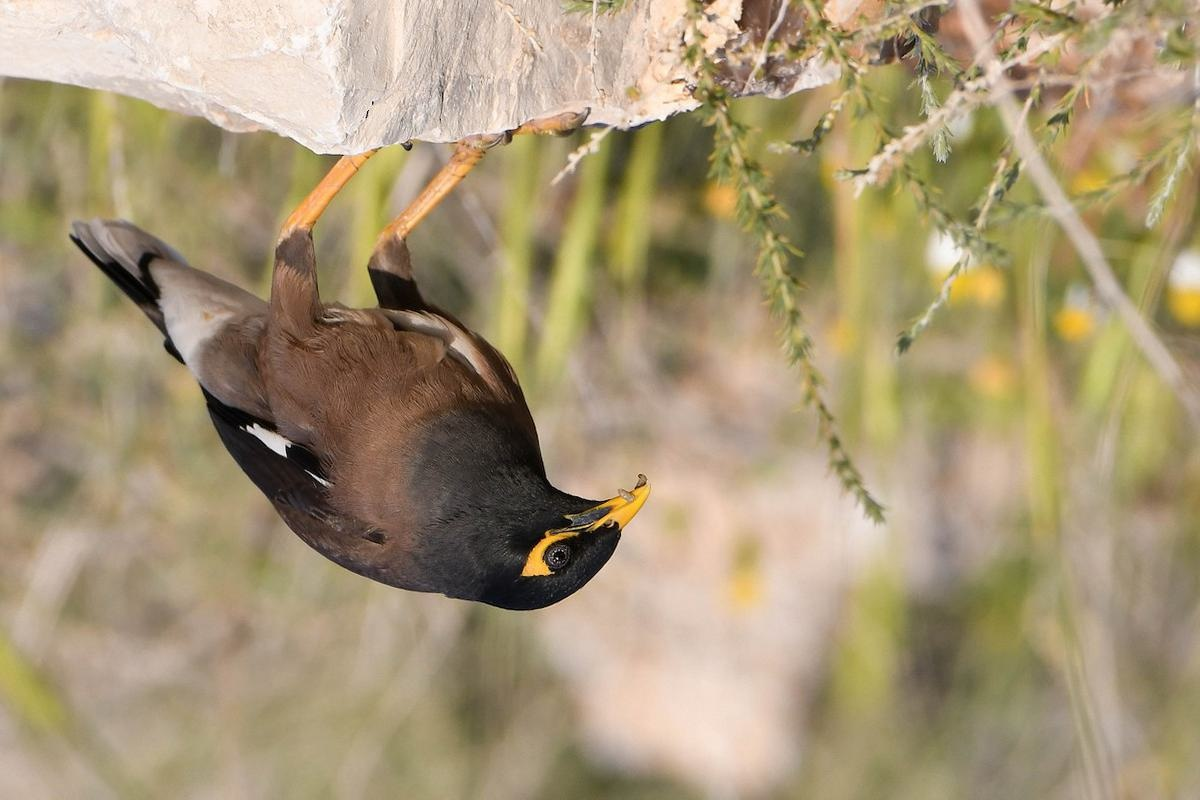myna: (166, 155, 669, 645)
